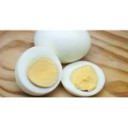begg: (15, 47, 63, 92), (65, 60, 105, 95)
